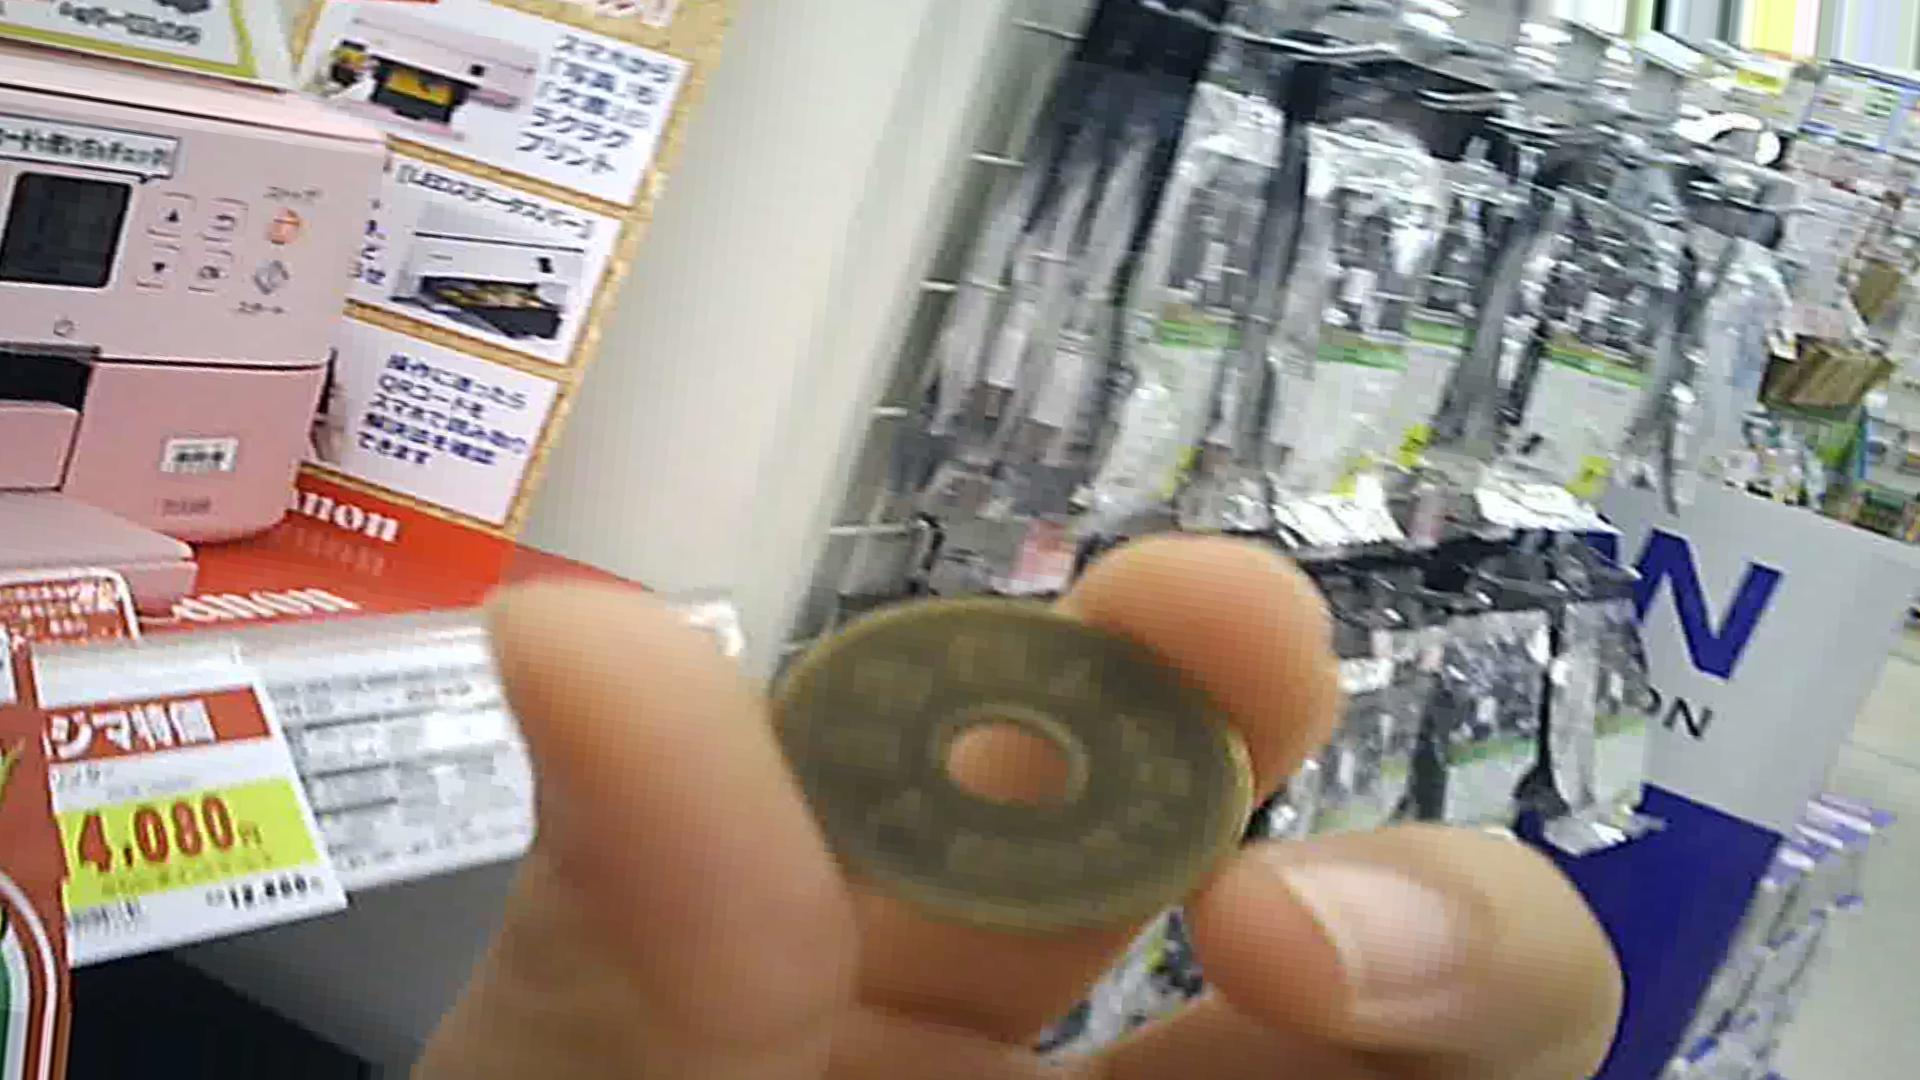5 Yen: (770, 583, 1265, 928)
